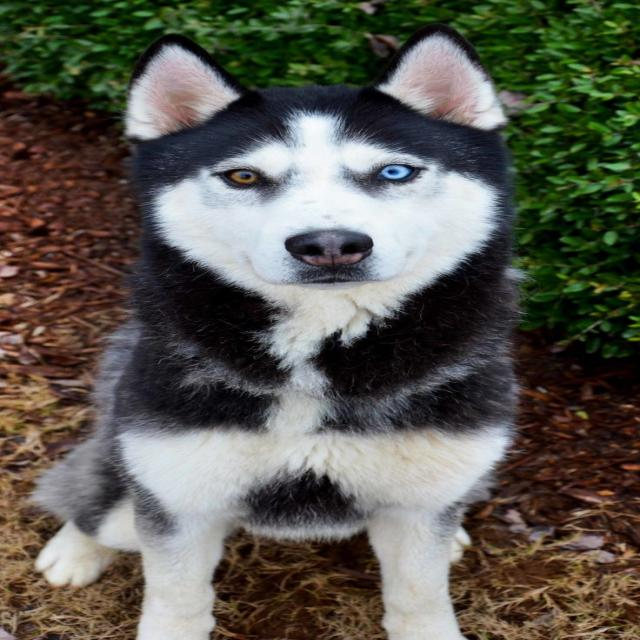dog: (49, 33, 574, 324)
